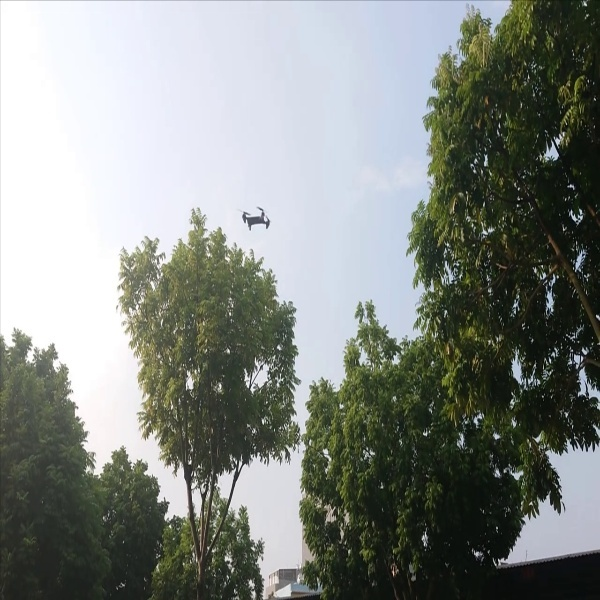drone: (234, 194, 276, 237)
